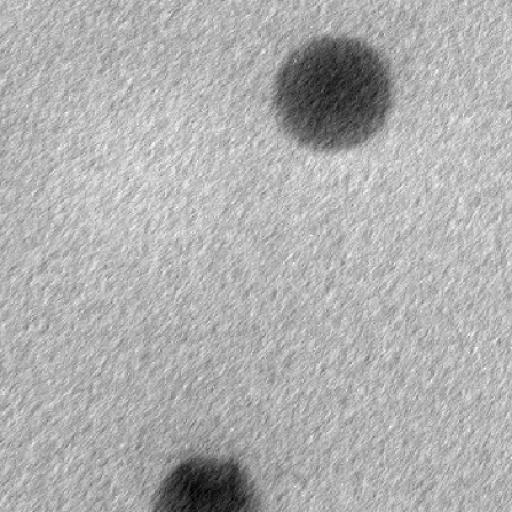Nanoparticles: (270, 34, 392, 151), (149, 456, 255, 512)
